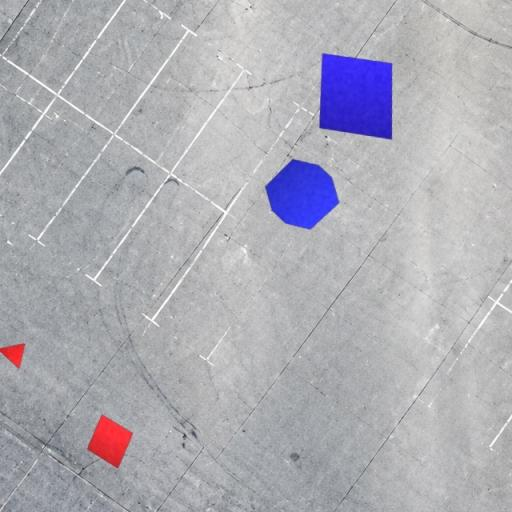BLUE_SQUARE: (318, 53, 393, 140)
RED_SQUARE: (86, 414, 134, 470)
